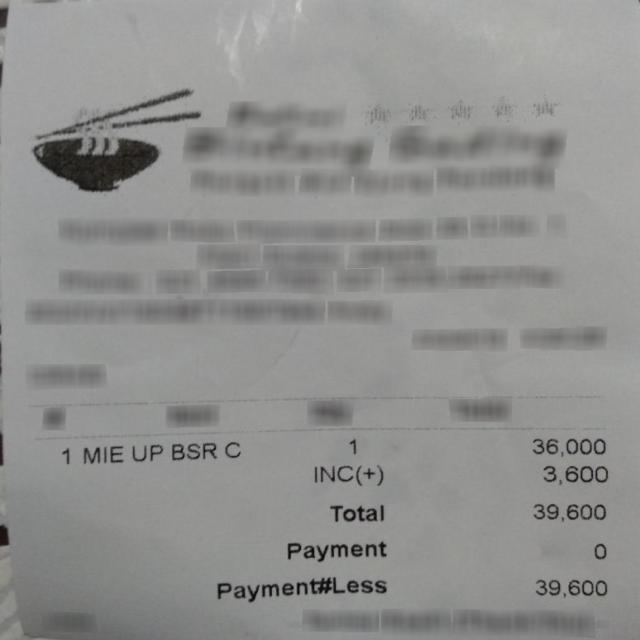text: (215, 575, 385, 601), (287, 539, 387, 561), (313, 464, 382, 484), (532, 437, 604, 455), (169, 441, 239, 459), (534, 503, 604, 520), (543, 465, 606, 483), (535, 579, 605, 595), (328, 504, 386, 522), (83, 444, 122, 462), (131, 443, 161, 459), (592, 541, 606, 559), (60, 448, 70, 465), (349, 439, 357, 455)
